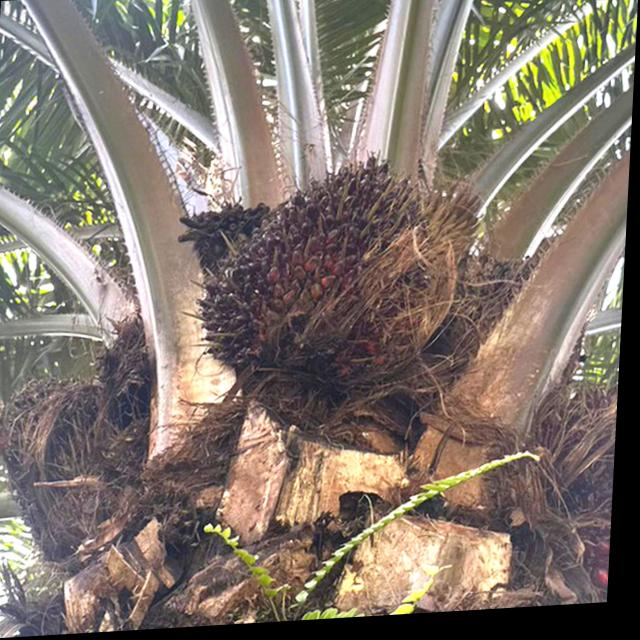ripe: (192, 150, 466, 379)
